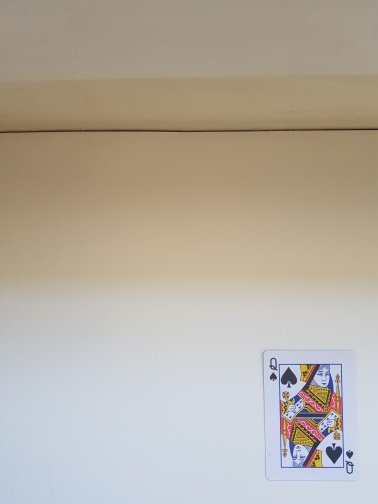queen: (262, 348, 357, 481)
